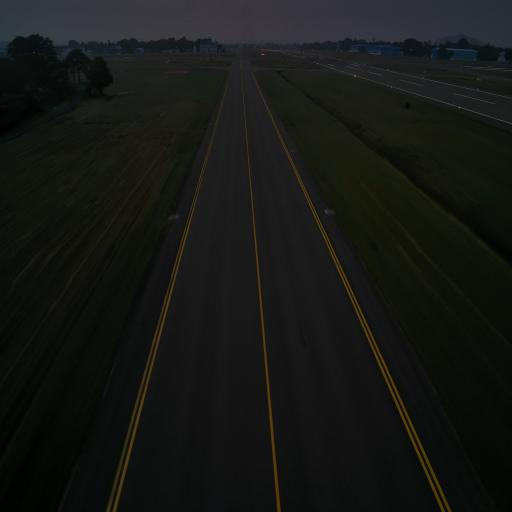on: (175, 210, 178, 217), (326, 206, 329, 212), (279, 119, 281, 123), (210, 121, 211, 124)
